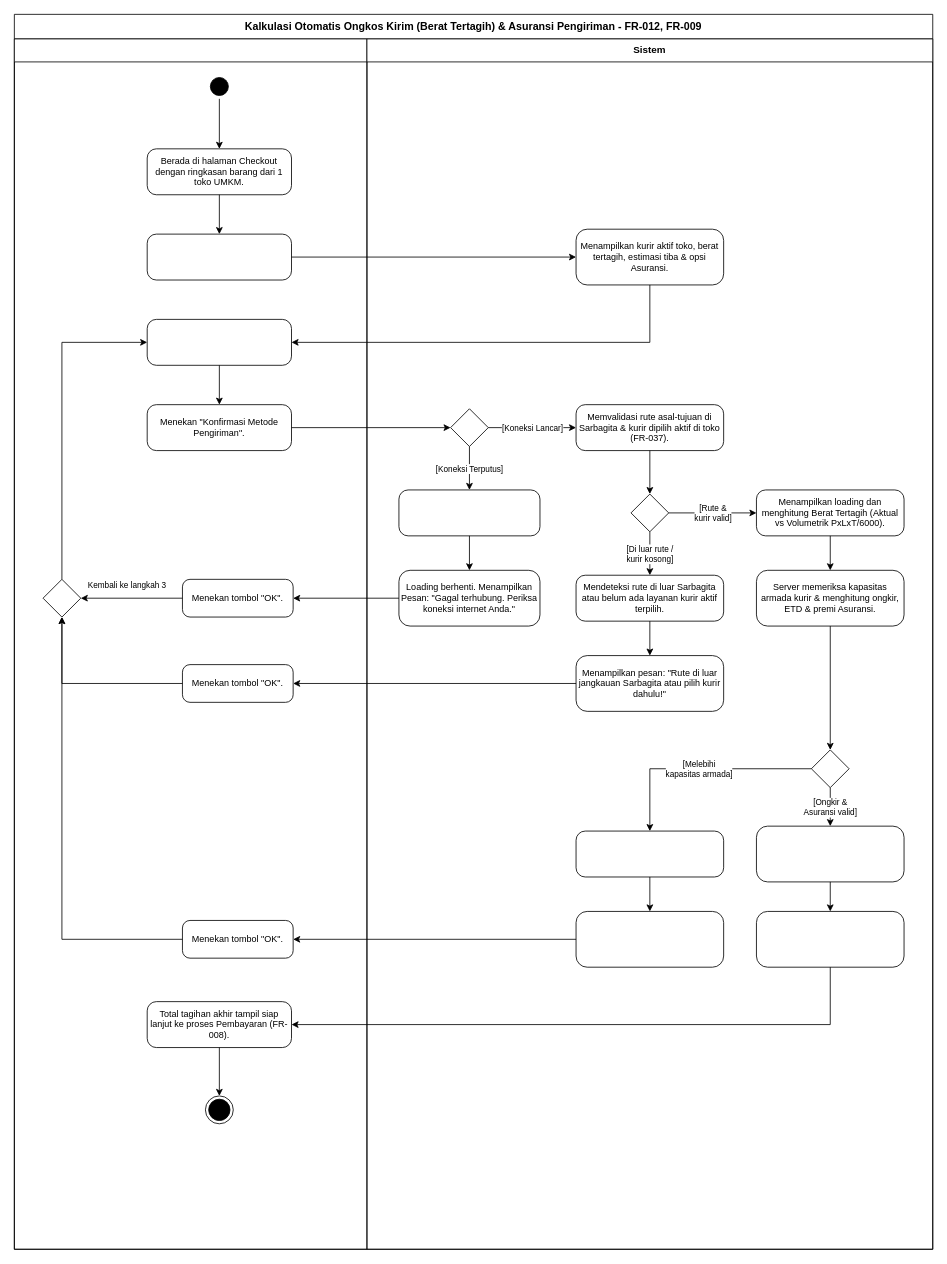
The diagram is 947 pixels wide and 1264 high, and some of its shapes have lost their labels. The box of each missing label's shape, as (x1, y1, x2, y2) in pixels:
Memilih alamat tujuan pengiriman dari Buku Alamat (FR-024).: (146, 233, 292, 280)
Memilih layanan kurir tersedia & mencentang opsi Asuransi (jika < Rp500.000).: (146, 319, 292, 365)
Menampilkan animasi loading.: (398, 489, 540, 536)
Menampilkan pesan: "Ukuran/berat paket melebihi batas kurir. Pilih kurir lain.": (575, 911, 724, 967)
Menampilkan rincian total tagihan (Barang + Ongkir + Asuransi + Layanan).: (756, 911, 904, 967)
Mengunci asuransi wajib (>= Rp500rb) & menambahkan Biaya Layanan flat (FR-009).: (756, 825, 904, 882)
Pembeli: (14, 38, 367, 1249)
Server mendeteksi berat/dimensi paket melebihi kapasitas kurir Instan/Same-Day.: (575, 830, 724, 877)
